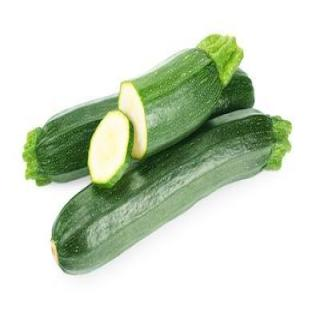Zucchini: (52, 110, 291, 273), (119, 35, 243, 159), (24, 95, 117, 184), (88, 111, 133, 187)
